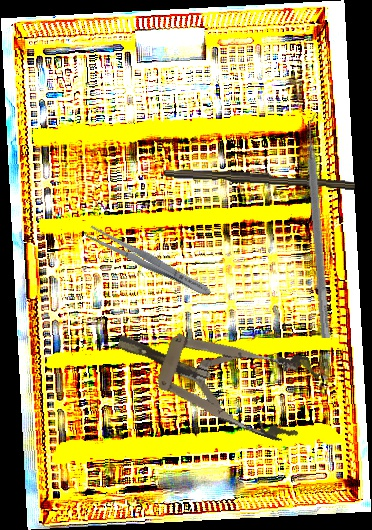Dressing Forceps: (83, 222, 215, 302)
Scalpel Handle: (163, 166, 356, 190)
Spatula Surgical: (301, 112, 340, 339)
Speculum: (104, 297, 325, 448)
